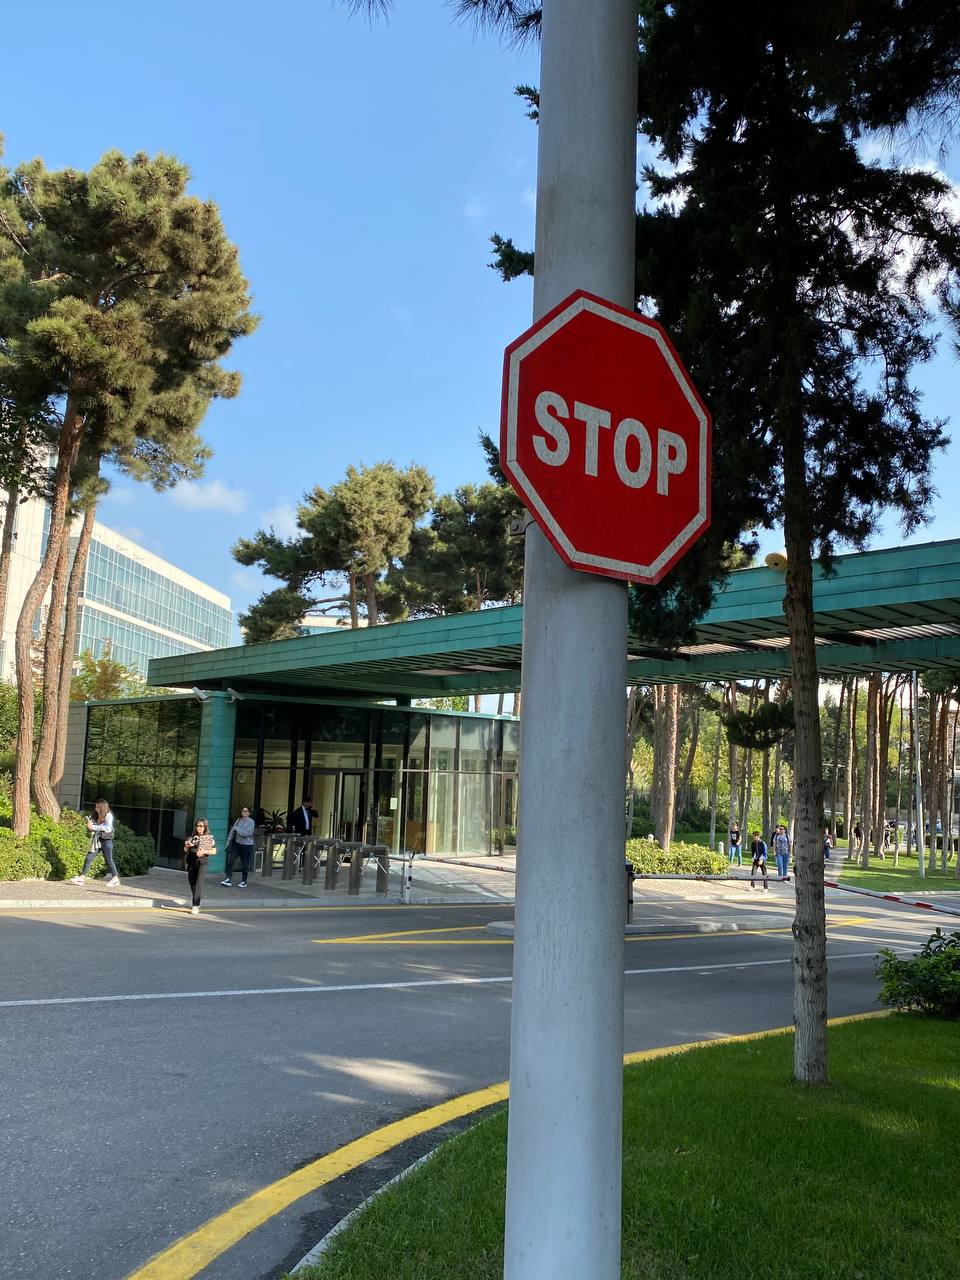STOP: (501, 289, 712, 585)
